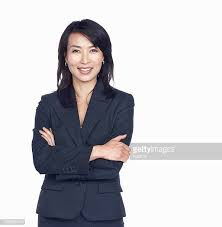asian_female: (41, 17, 118, 95)
